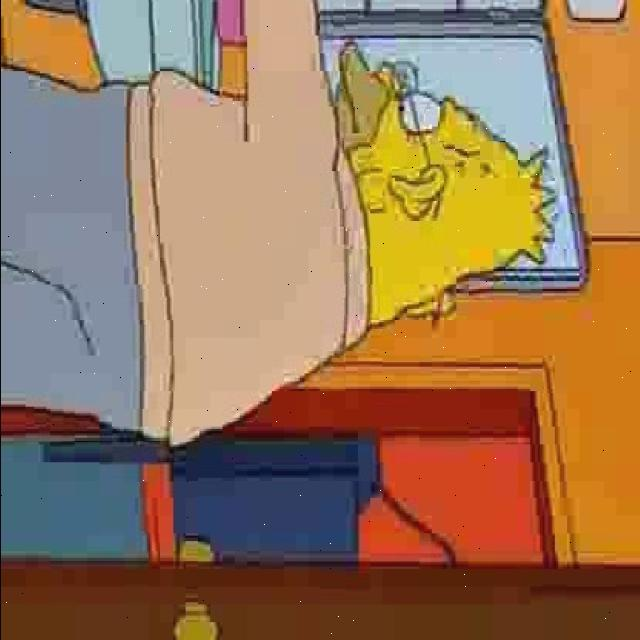Abraham Grampa Simpson: (328, 42, 554, 331)
